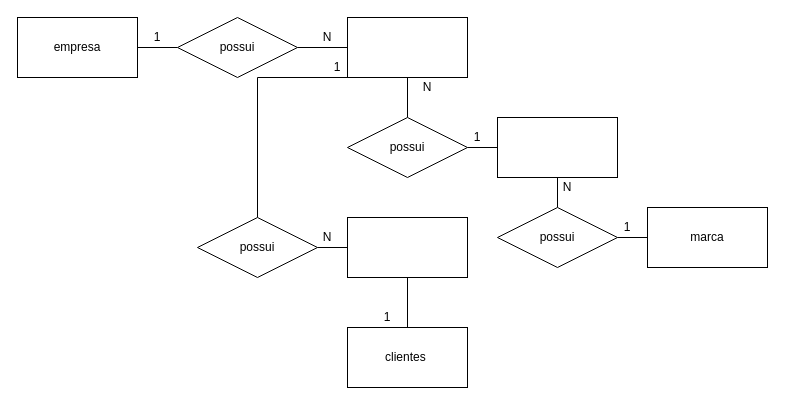
Image size: 785x405. Some labels were removed from this diagram. The centre of each missing label's shape, as x and y in pixels:
"aluguel" goes at [407,247].
"modelo" goes at [557,147].
"veiculos" goes at [407,47].
